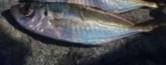fish: (9, 2, 165, 45)
